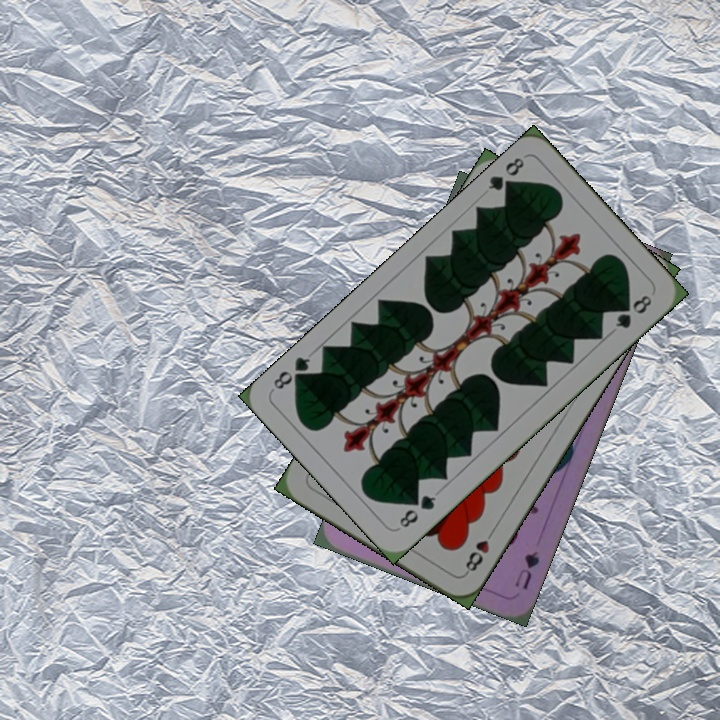G8: (484, 153, 527, 197), (395, 491, 439, 531)
GU: (511, 546, 542, 592)
H8: (461, 524, 498, 577)
